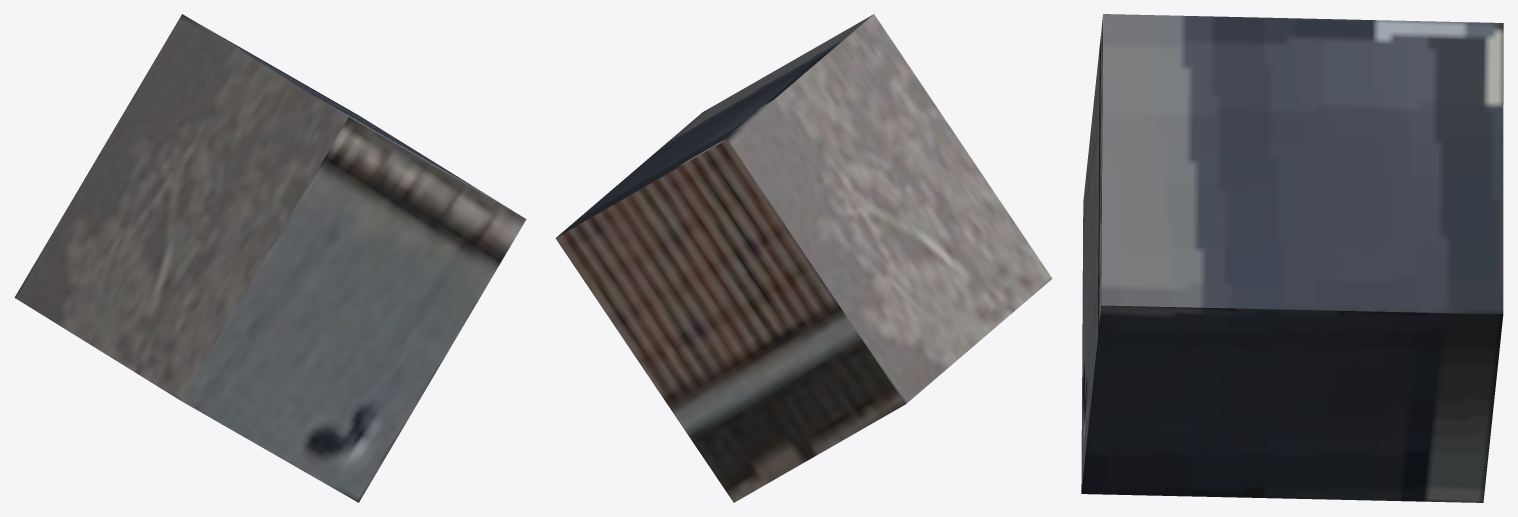
The picture shows the model from 3 angles, left to right: view 1: azimuth 30°, elevation 25°; view 2: azimuth 150°, elevation 25°; view 3: azimuth 270°, elevation 25°; orthographic projection. The views are drawn at different scales.
Visible parts, largest first — view 1: BAG_0599100100019949 (×2); view 2: BAG_0599100100019949 (×2); view 3: BAG_0599100100019949.
Boxes of the visible parts, x1,y1,x2,y2 form: BAG_0599100100019949 (×2): (14,14,526,502); BAG_0599100100019949 (×2): (555,14,1052,502); BAG_0599100100019949: (1081,14,1503,502).
Size of the model in its own units: 3.27 by 3.39 by 2.63.
Materials: 2 (2 with a texture image).
